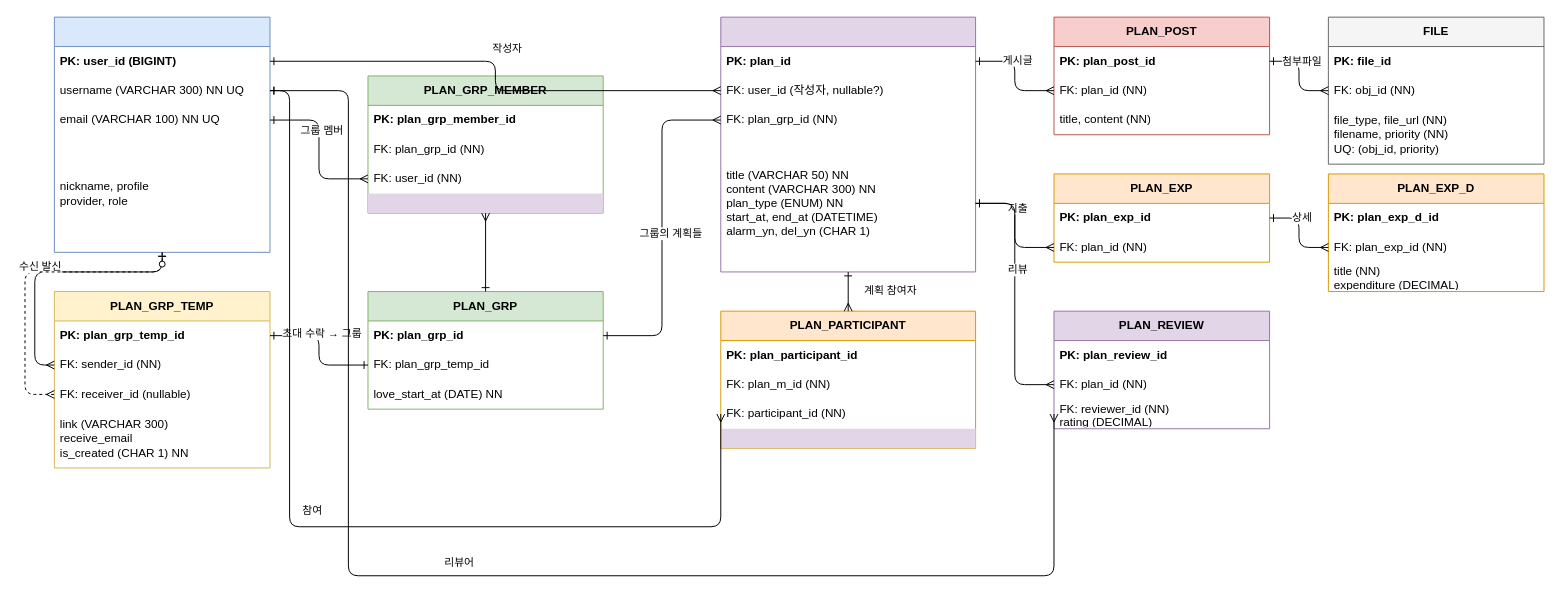
Image size: 1561x602. Some labels were removed from this diagram. The shapes that lost their labels are listed below. From the top down, each one's box as (x1, y1, x2, y2) in pixels, then its label:
(53, 16, 270, 252): MEMBER
(720, 16, 976, 272): PLAN_M
(368, 193, 603, 213): UQ: (plan_grp_id, user_id)
(720, 428, 975, 448): UQ: (plan_m_id, participant_id)
